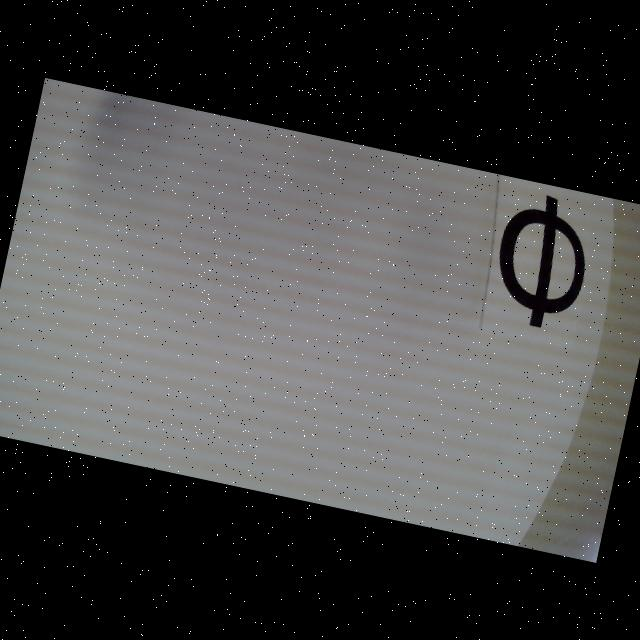PHI: (484, 186, 600, 336)
